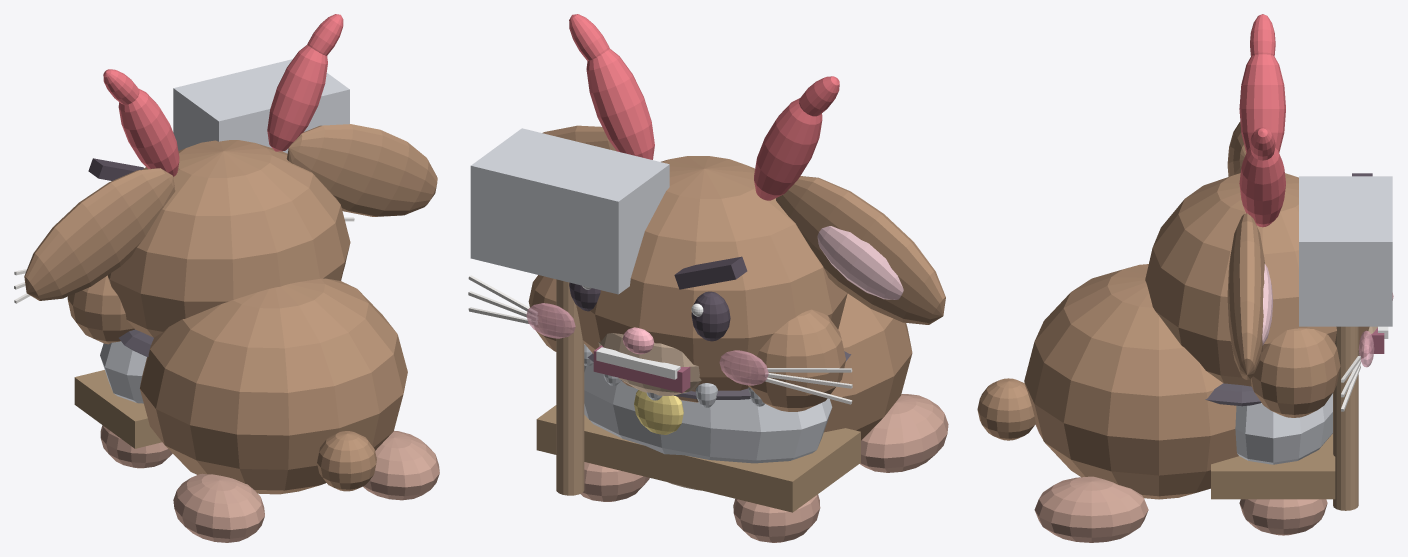
Rendered from MythicHamsterMinotaur.glb.
The picture shows the model from 3 angles, left to right: view 1: azimuth 30°, elevation 25°; view 2: azimuth 150°, elevation 25°; view 3: azimuth 270°, elevation 25°; orthographic projection. The views are drawn at different scales.
Visible parts, largest first — view 1: MythicHamsterMinotaur_4, MythicHamsterMinotaur_8, MythicHamsterMinotaur_6, MythicHamsterMinotaur_9, MythicHamsterMinotaur_3, MythicHamsterMinotaur_0, MythicHamsterMinotaur_1; view 2: MythicHamsterMinotaur_4, MythicHamsterMinotaur_8, MythicHamsterMinotaur_3, MythicHamsterMinotaur_9, MythicHamsterMinotaur_6, MythicHamsterMinotaur_5, MythicHamsterMinotaur_0, MythicHamsterMinotaur_13, MythicHamsterMinotaur_12, MythicHamsterMinotaur_10, MythicHamsterMinotaur_7, MythicHamsterMinotaur_14 (+3 smaller); view 3: MythicHamsterMinotaur_4, MythicHamsterMinotaur_8, MythicHamsterMinotaur_6, MythicHamsterMinotaur_9, MythicHamsterMinotaur_3, MythicHamsterMinotaur_5, MythicHamsterMinotaur_1, MythicHamsterMinotaur_13, MythicHamsterMinotaur_10.
Part boxes in pixels (bbox=[...]): MythicHamsterMinotaur_4: bbox=[24, 124, 437, 494]; MythicHamsterMinotaur_8: bbox=[100, 59, 349, 403]; MythicHamsterMinotaur_6: bbox=[100, 425, 439, 542]; MythicHamsterMinotaur_9: bbox=[103, 14, 343, 176]; MythicHamsterMinotaur_3: bbox=[74, 370, 161, 448]; MythicHamsterMinotaur_0: bbox=[88, 158, 143, 180]; MythicHamsterMinotaur_1: bbox=[119, 329, 153, 356]; MythicHamsterMinotaur_4: bbox=[528, 125, 945, 440]; MythicHamsterMinotaur_8: bbox=[470, 128, 832, 463]; MythicHamsterMinotaur_3: bbox=[536, 405, 860, 512]; MythicHamsterMinotaur_9: bbox=[569, 14, 839, 200]; MythicHamsterMinotaur_6: bbox=[580, 394, 948, 542]; MythicHamsterMinotaur_5: bbox=[556, 279, 584, 495]; MythicHamsterMinotaur_0: bbox=[569, 256, 747, 341]; MythicHamsterMinotaur_13: bbox=[817, 226, 903, 299]; MythicHamsterMinotaur_12: bbox=[526, 303, 768, 385]; MythicHamsterMinotaur_10: bbox=[468, 275, 852, 404]; MythicHamsterMinotaur_7: bbox=[598, 333, 701, 490]; MythicHamsterMinotaur_14: bbox=[634, 390, 683, 434]; MythicHamsterMinotaur_4: bbox=[977, 122, 1369, 499]; MythicHamsterMinotaur_8: bbox=[1235, 176, 1392, 464]; MythicHamsterMinotaur_6: bbox=[1034, 424, 1327, 542]; MythicHamsterMinotaur_9: bbox=[1239, 14, 1285, 227]; MythicHamsterMinotaur_3: bbox=[1211, 433, 1335, 499]; MythicHamsterMinotaur_5: bbox=[1333, 326, 1358, 510]; MythicHamsterMinotaur_1: bbox=[1205, 383, 1261, 406]; MythicHamsterMinotaur_13: bbox=[1262, 264, 1272, 345]; MythicHamsterMinotaur_10: bbox=[1341, 356, 1360, 411].
Size of the model in its own units: 5.89 by 5.62 by 5.01.
